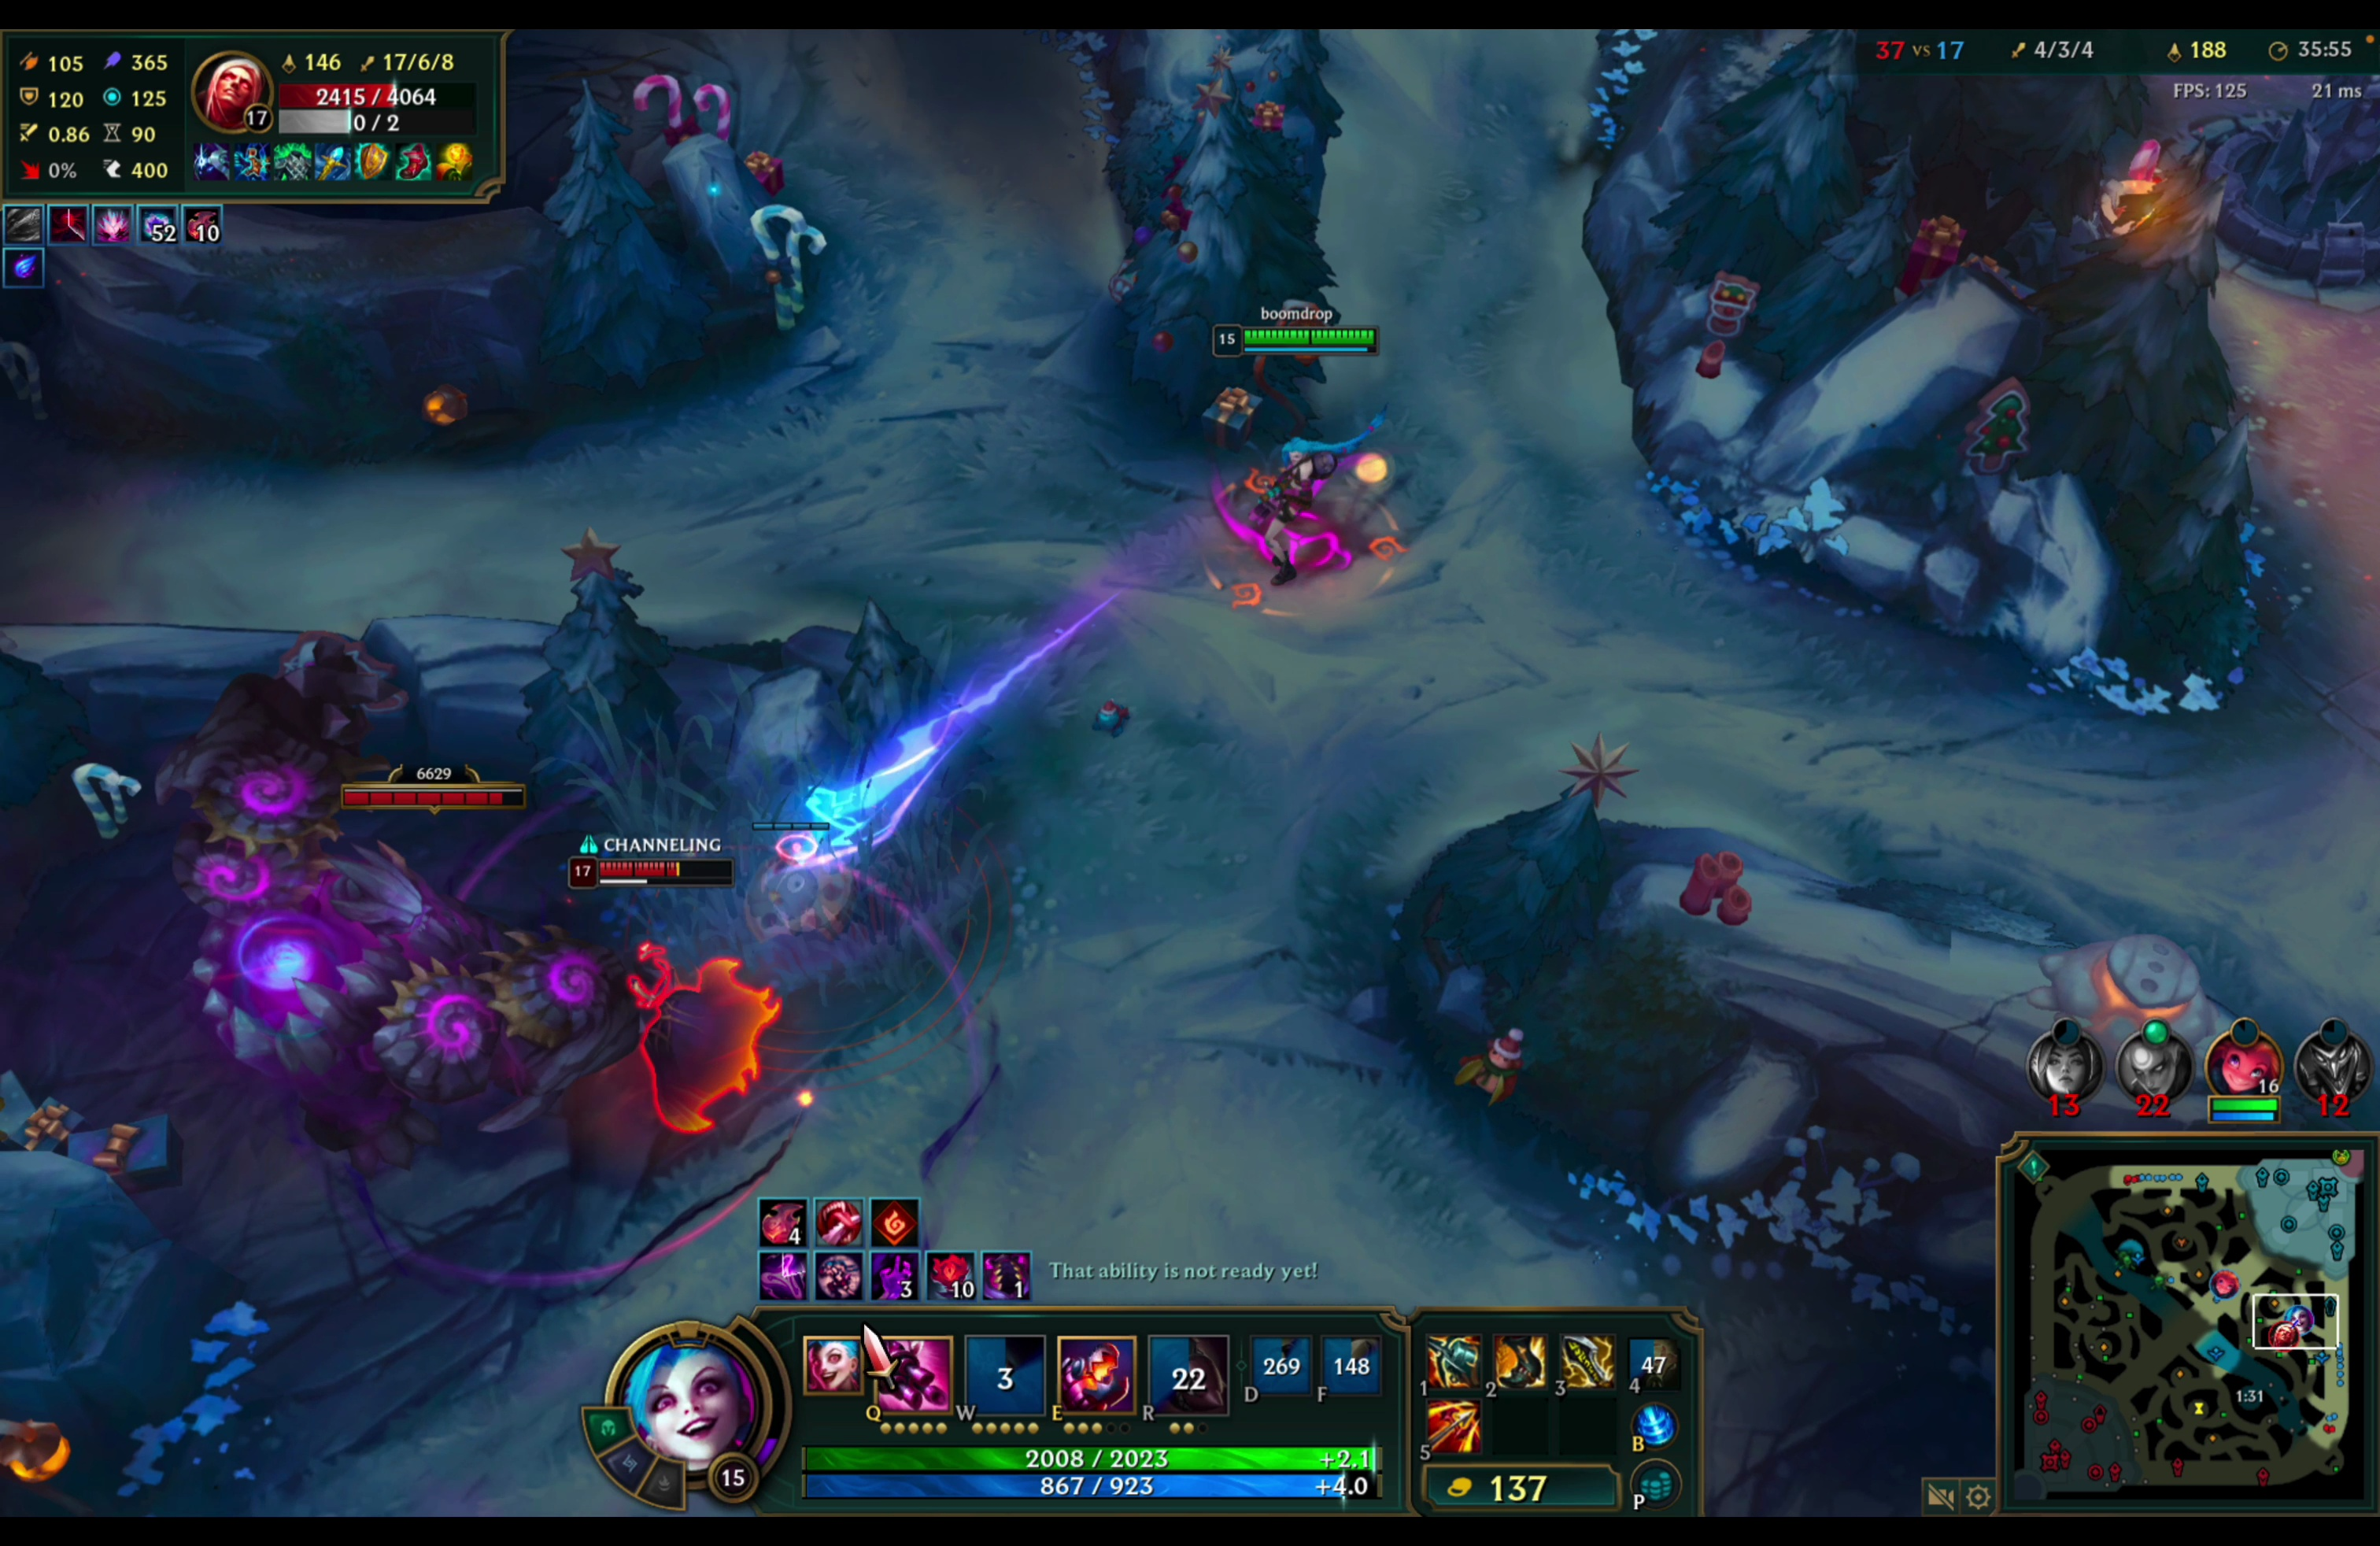JINX_W_PROJECTILE: (767, 293, 1433, 878)
